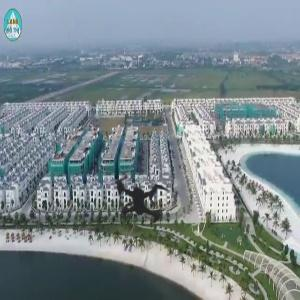drone: (61, 116, 224, 279)
